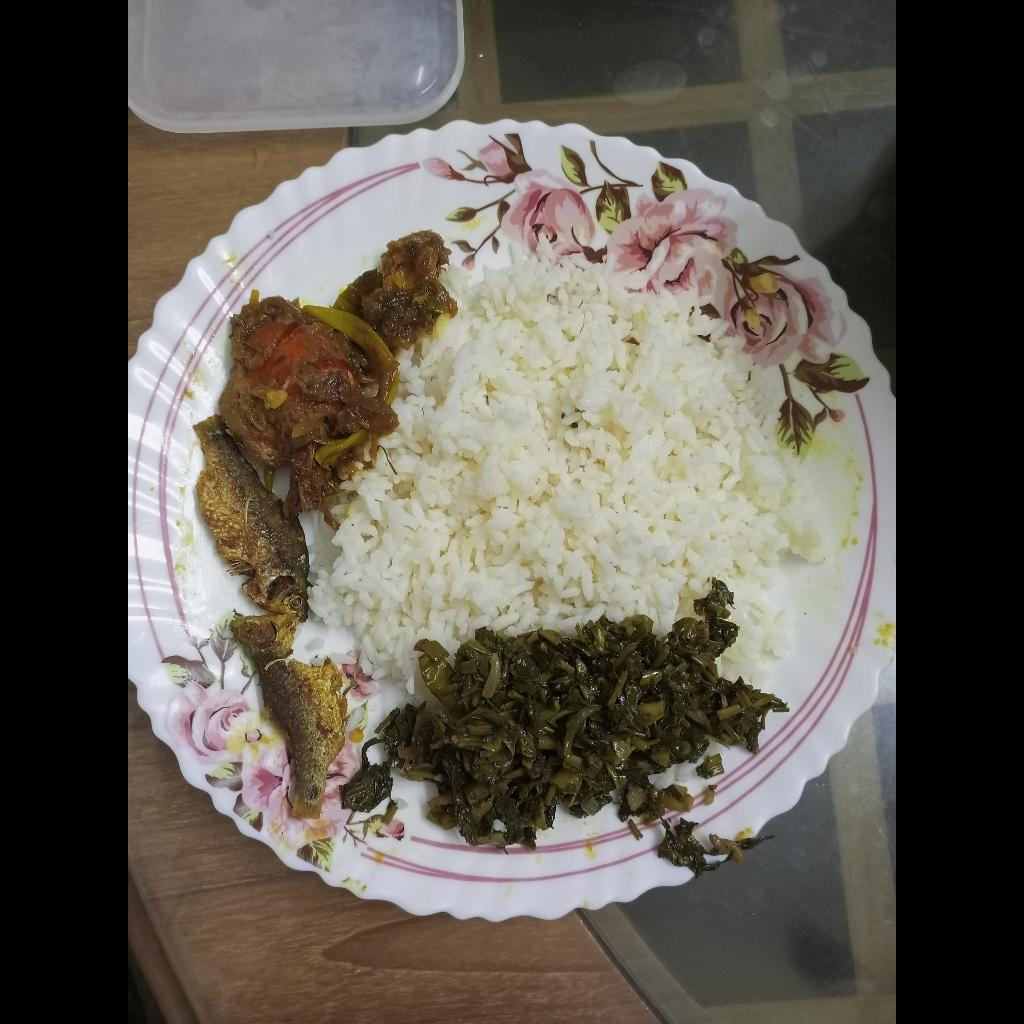fish: (222, 228, 455, 503), (193, 413, 311, 623), (231, 613, 351, 819)
rice: (311, 233, 836, 690)
shak: (335, 584, 787, 883)
